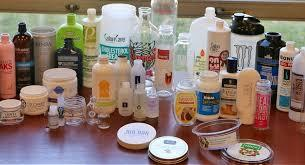Container for household chemicals: (0, 3, 304, 161)
